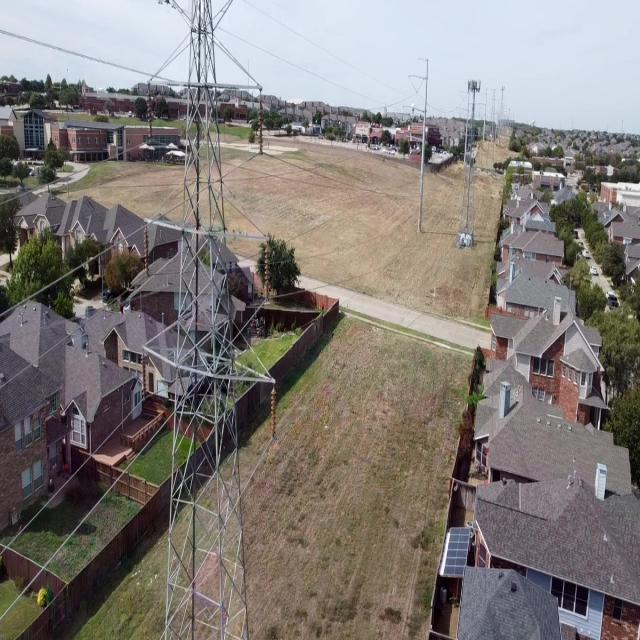杆塔: (136, 1, 276, 640), (454, 68, 484, 248)
正常绝缘子: (252, 82, 272, 158), (138, 218, 157, 288), (134, 344, 156, 404), (259, 237, 275, 313), (268, 379, 282, 463), (144, 84, 158, 147)
